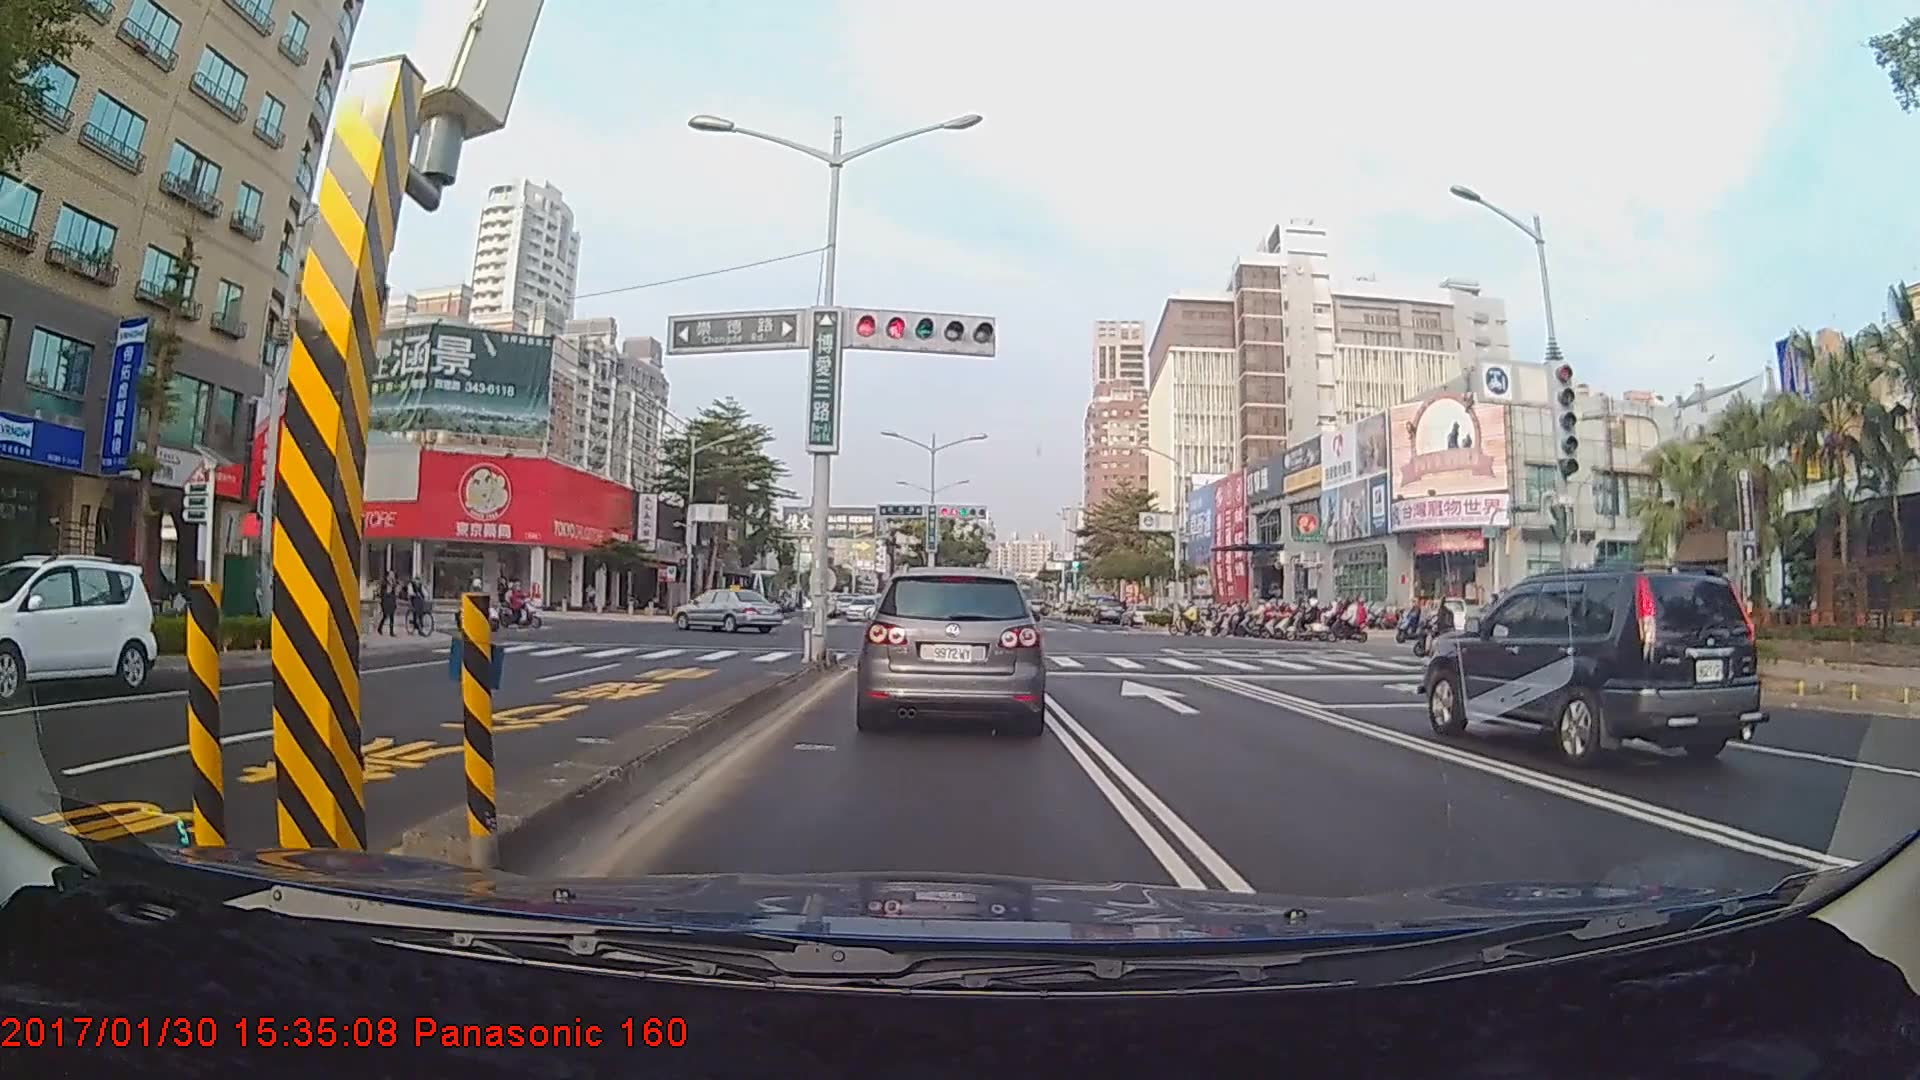pedestrian: (377, 566, 401, 640)
rider: (1324, 594, 1375, 645), (1302, 601, 1348, 641), (1171, 601, 1207, 636)
vehicle: (1420, 567, 1768, 771), (863, 568, 1047, 730), (0, 558, 154, 702), (672, 585, 790, 634), (1092, 596, 1124, 625)
